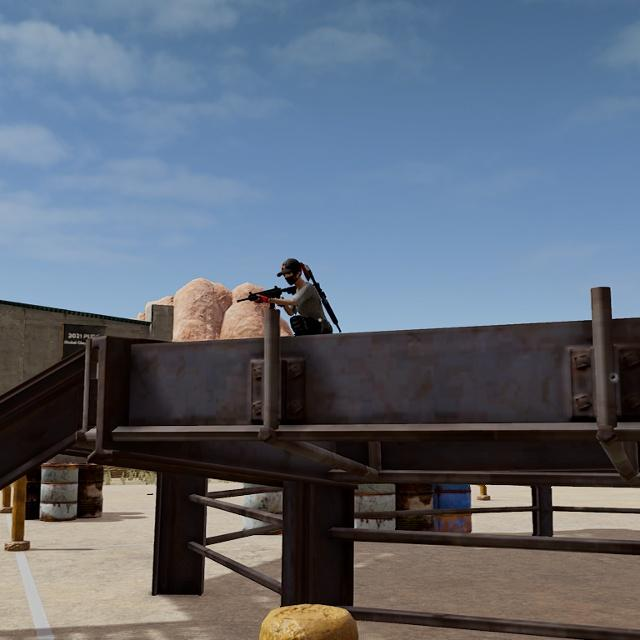head: (279, 256, 305, 288)
people: (271, 253, 338, 336)
